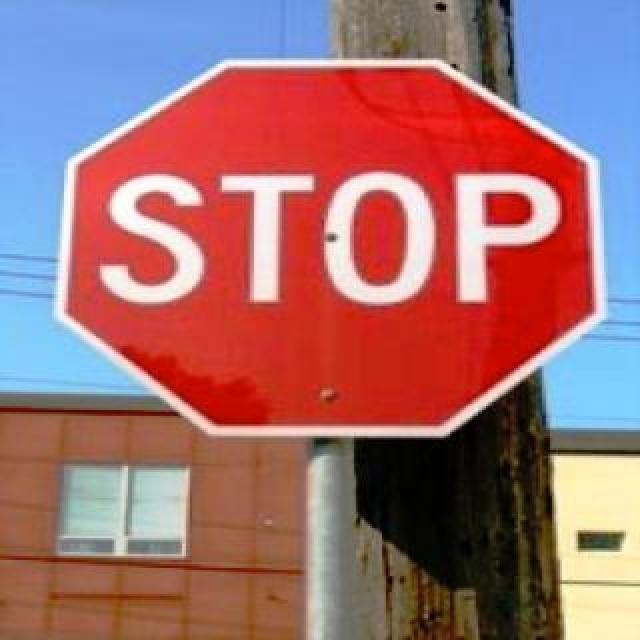stop: (56, 54, 602, 430)
